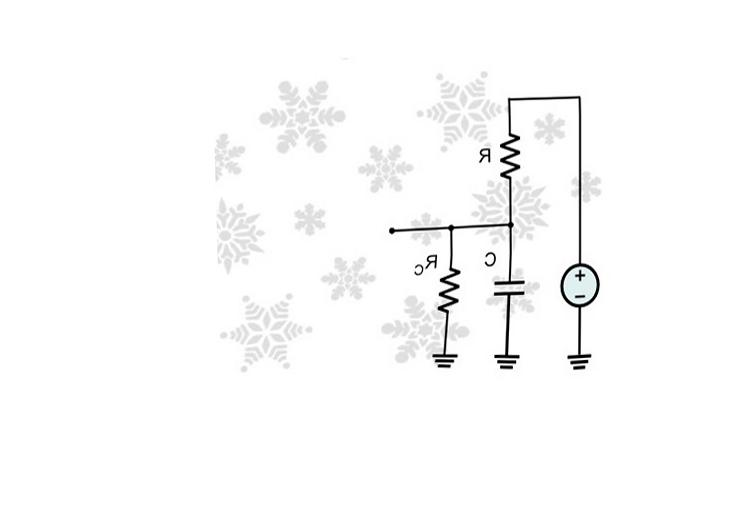Battery: (544, 253, 621, 321)
